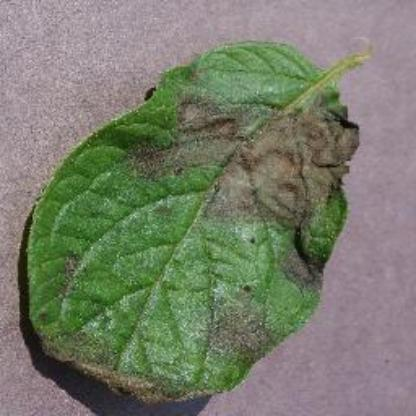Late-Blight: (21, 29, 380, 410)
